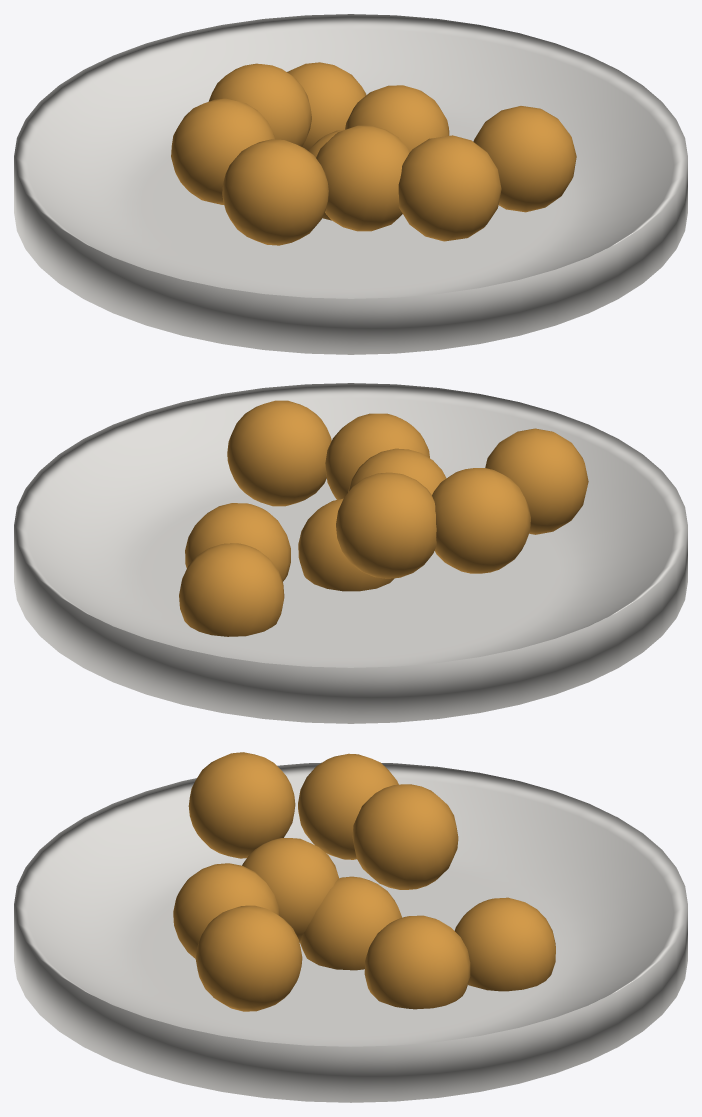
The model's file is empanados-2-card.glb.
The picture shows the model from 3 angles, top to bottom: view 1: azimuth 30°, elevation 25°; view 2: azimuth 150°, elevation 25°; view 3: azimuth 270°, elevation 25°; orthographic projection.
Bounding box in the file's own units: 0.24 × 0.062 × 0.24.
